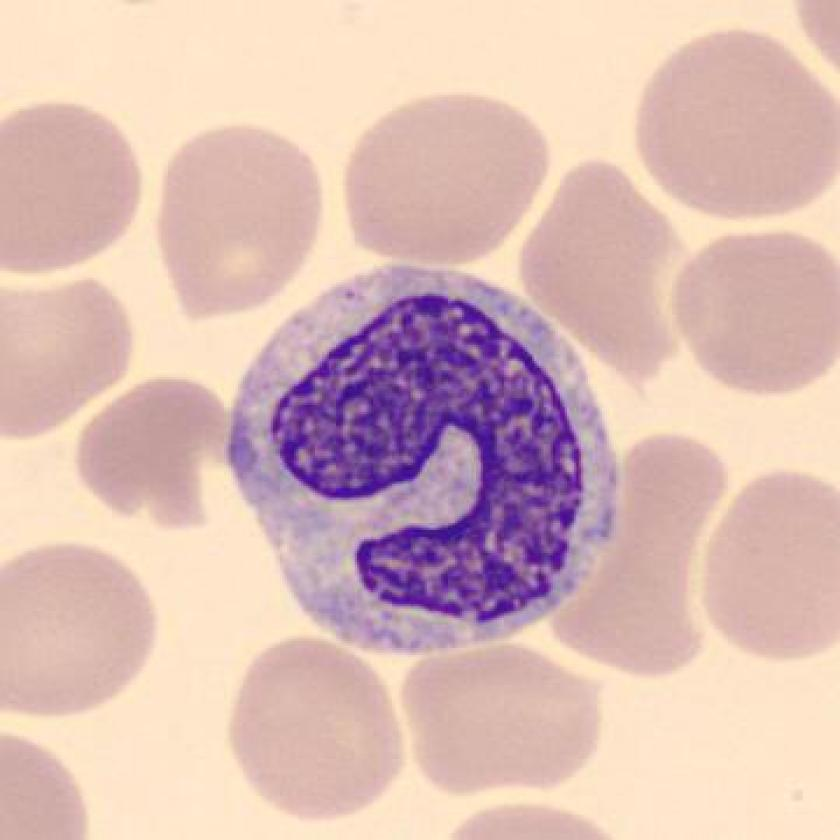monocyte: (214, 251, 641, 663)
